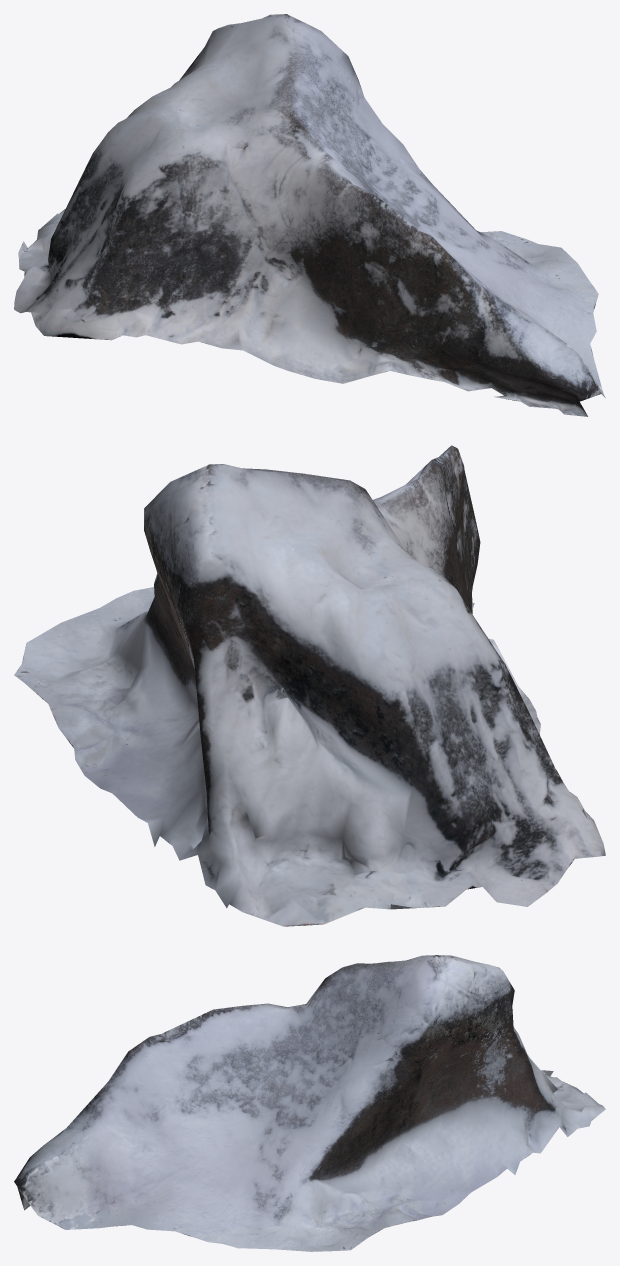
3 renders of one model, top to bottom at view 1: azimuth 30°, elevation 25°; view 2: azimuth 150°, elevation 25°; view 3: azimuth 270°, elevation 25°, orthographic. The views are drawn at different scales.
Visible parts, largest first — view 1: Obj3d66-567733-1-498; view 2: Obj3d66-567733-1-498; view 3: Obj3d66-567733-1-498.
Part boxes in pixels (bbox=[...]): Obj3d66-567733-1-498: bbox=[14, 14, 605, 416]; Obj3d66-567733-1-498: bbox=[14, 445, 605, 926]; Obj3d66-567733-1-498: bbox=[14, 955, 605, 1251].
Bounding box in the file's own units: 423 × 217 × 513.
Materials: 1 (1 with a texture image).
